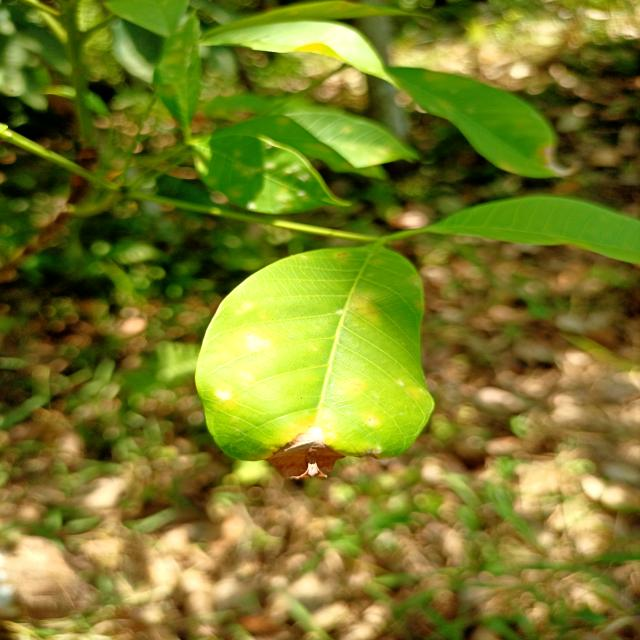Leaf-Blight: (264, 425, 346, 480), (353, 453, 380, 460)
